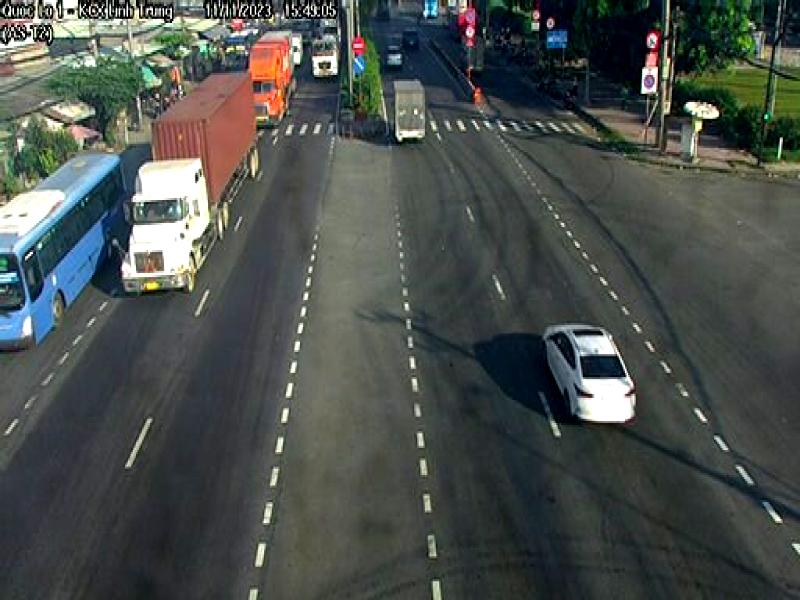bus: (0, 149, 132, 353)
truck: (120, 68, 261, 299), (249, 26, 297, 130), (392, 80, 430, 142)
